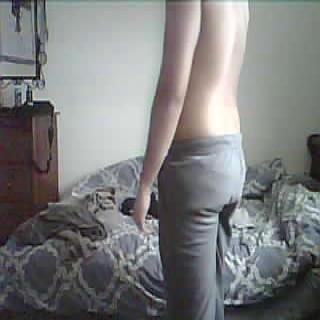Gray Sweatpants: (153, 134, 247, 320)
